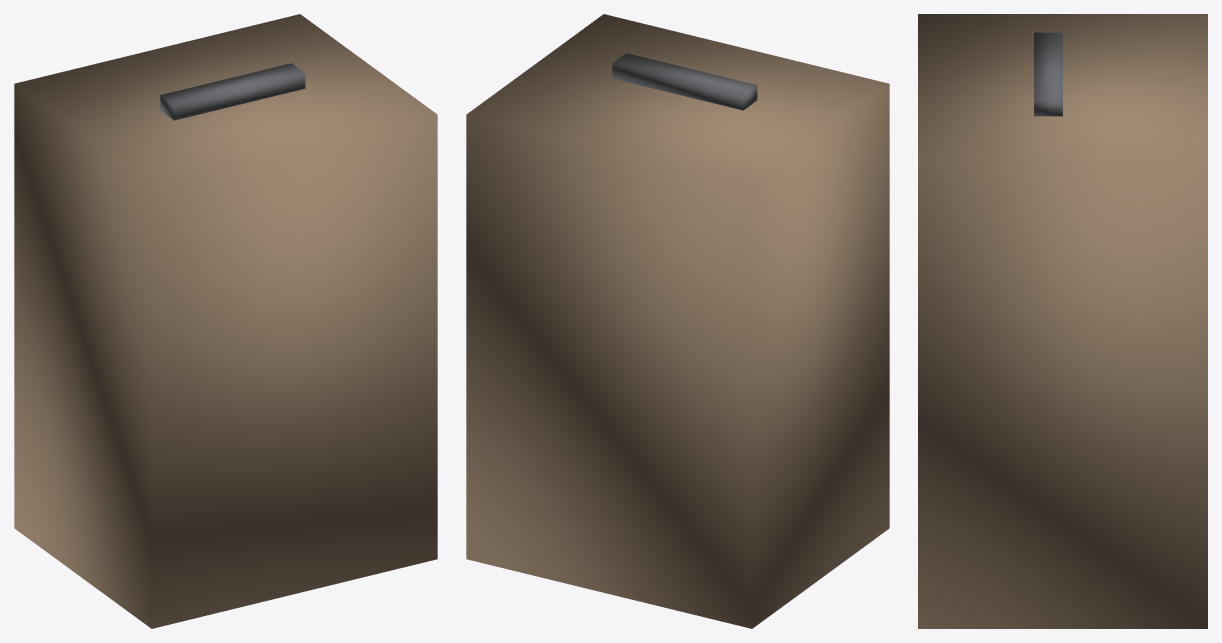
The model's file is donation_box__reinforced.glb.
3 renders of one model, left to right at view 1: azimuth 30°, elevation 25°; view 2: azimuth 150°, elevation 25°; view 3: azimuth 270°, elevation 25°, orthographic. The views are drawn at different scales.
Visible parts, largest first — view 1: world; view 2: world; view 3: world.
Part boxes in pixels (x1=…): world: x1=14, y1=14, x2=437, y2=628; world: x1=466, y1=14, x2=889, y2=628; world: x1=918, y1=14, x2=1207, y2=628.
Size of the model in its own units: 0.4944 by 0.7675 by 0.412.
